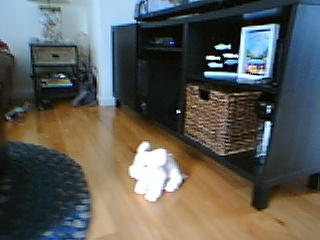piggy: (128, 140, 185, 203)
